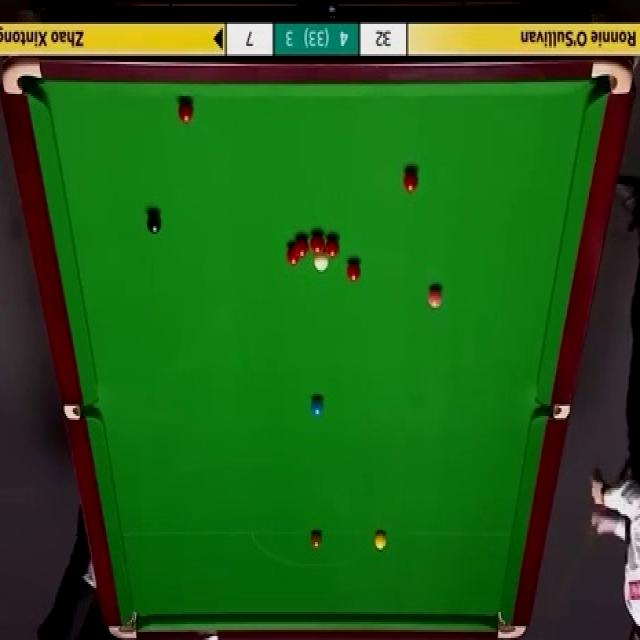pocket: (1, 58, 46, 97), (591, 58, 634, 97), (495, 606, 531, 640), (110, 608, 141, 640), (64, 402, 101, 422), (535, 405, 573, 420)
